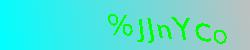%: (107, 9, 133, 39)
J: (134, 16, 146, 46), (146, 15, 155, 45)
Y: (169, 13, 192, 41)
c: (195, 17, 213, 43)
n: (156, 22, 175, 44)
o: (213, 24, 229, 47)
